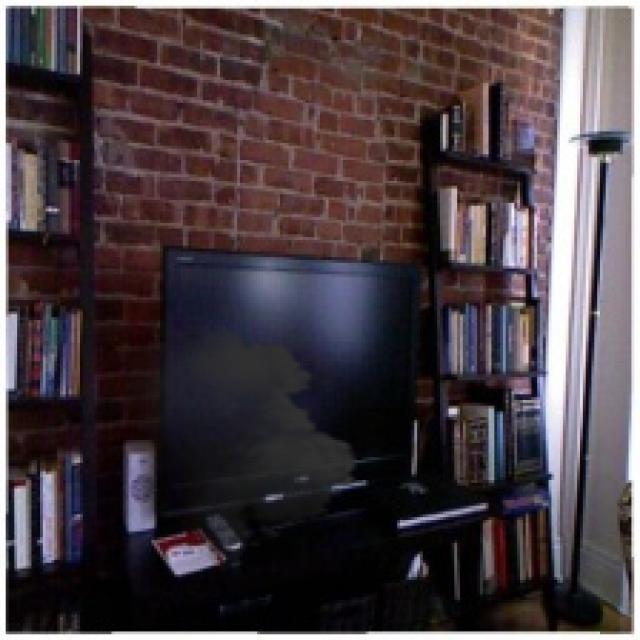smoke: (92, 320, 368, 574)
